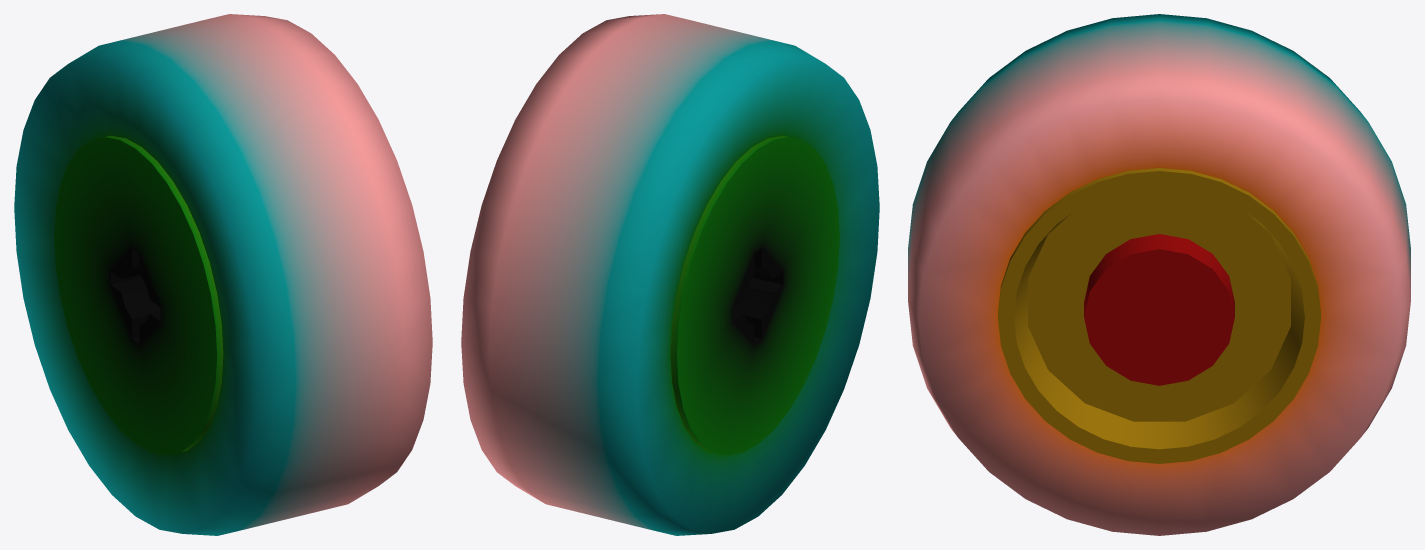
Rendered from SM_Wheel_7sx2.gltf.
3 views of the same model, side by side, from view 1: azimuth 30°, elevation 25°; view 2: azimuth 150°, elevation 25°; view 3: azimuth 270°, elevation 25° (orthographic).
Visible parts, largest first — view 1: SM_Wheel_7sx2; view 2: SM_Wheel_7sx2; view 3: SM_Wheel_7sx2.
Part boxes in pixels (box(x1,y1,x2,y2)): SM_Wheel_7sx2: box(14, 14, 432, 535); SM_Wheel_7sx2: box(461, 14, 879, 535); SM_Wheel_7sx2: box(908, 14, 1410, 535).
Size of the model in its own units: 0.28 by 0.7001 by 0.7001.
